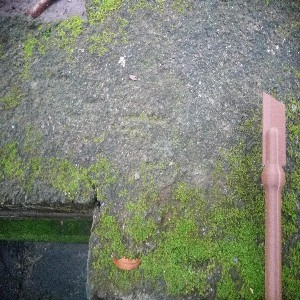cutter: (259, 90, 288, 300)
